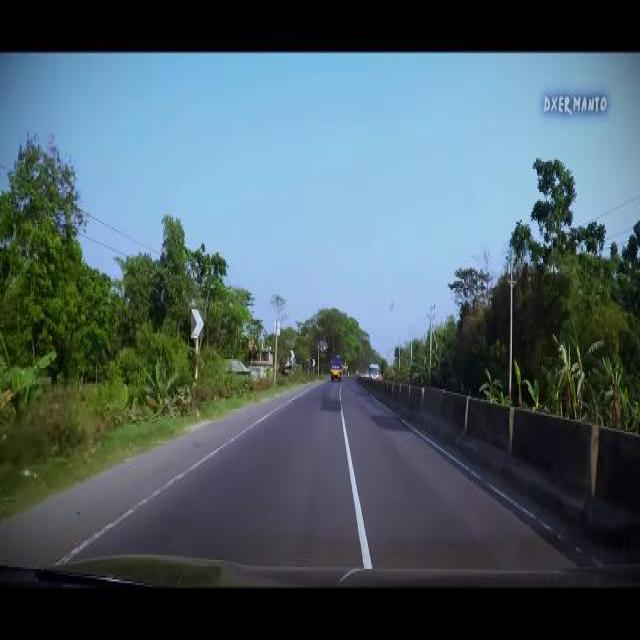18: (328, 355, 342, 381)
Truck: (367, 362, 379, 378)
